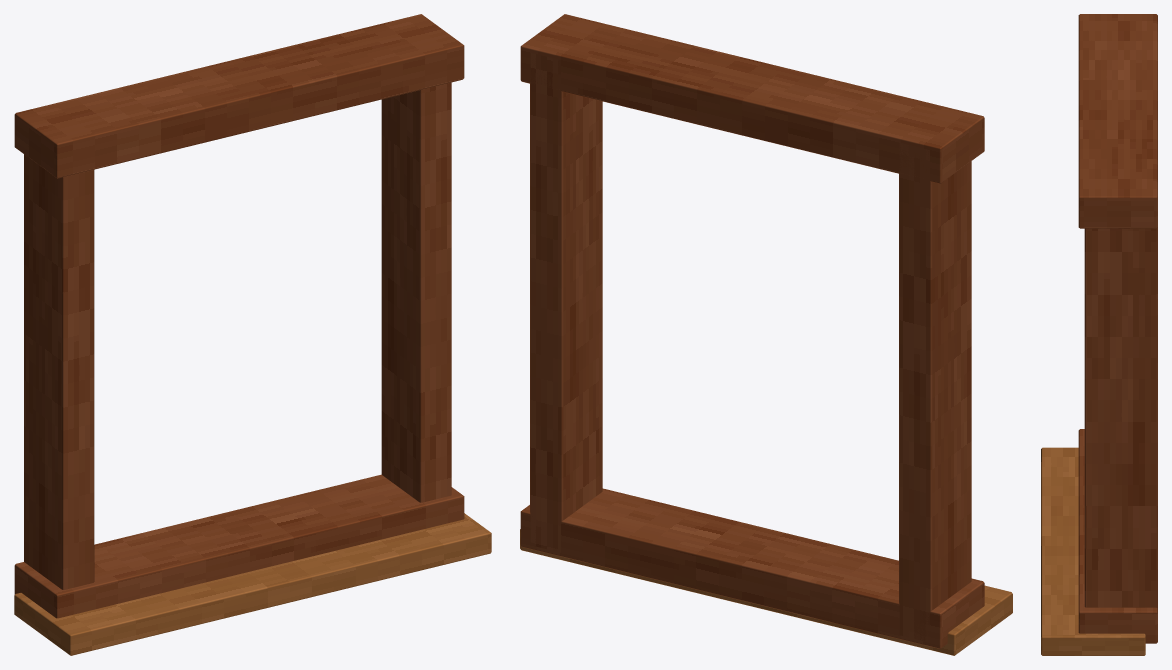
Rendered from Casement-and-sill.glb.
The picture shows the model from 3 angles, left to right: view 1: azimuth 30°, elevation 25°; view 2: azimuth 150°, elevation 25°; view 3: azimuth 270°, elevation 25°; orthographic projection. The views are drawn at different scales.
Visible parts, largest first — view 1: Casement-and-sill; view 2: Casement-and-sill; view 3: Casement-and-sill.
Part boxes in pixels (x1=…): Casement-and-sill: x1=14, y1=14, x2=491, y2=655; Casement-and-sill: x1=520, y1=14, x2=1012, y2=655; Casement-and-sill: x1=1041, y1=14, x2=1157, y2=655.
Bounding box in the file's own units: 1.5 × 1.68 × 0.3905.
Materials: 2 (2 with a texture image).
